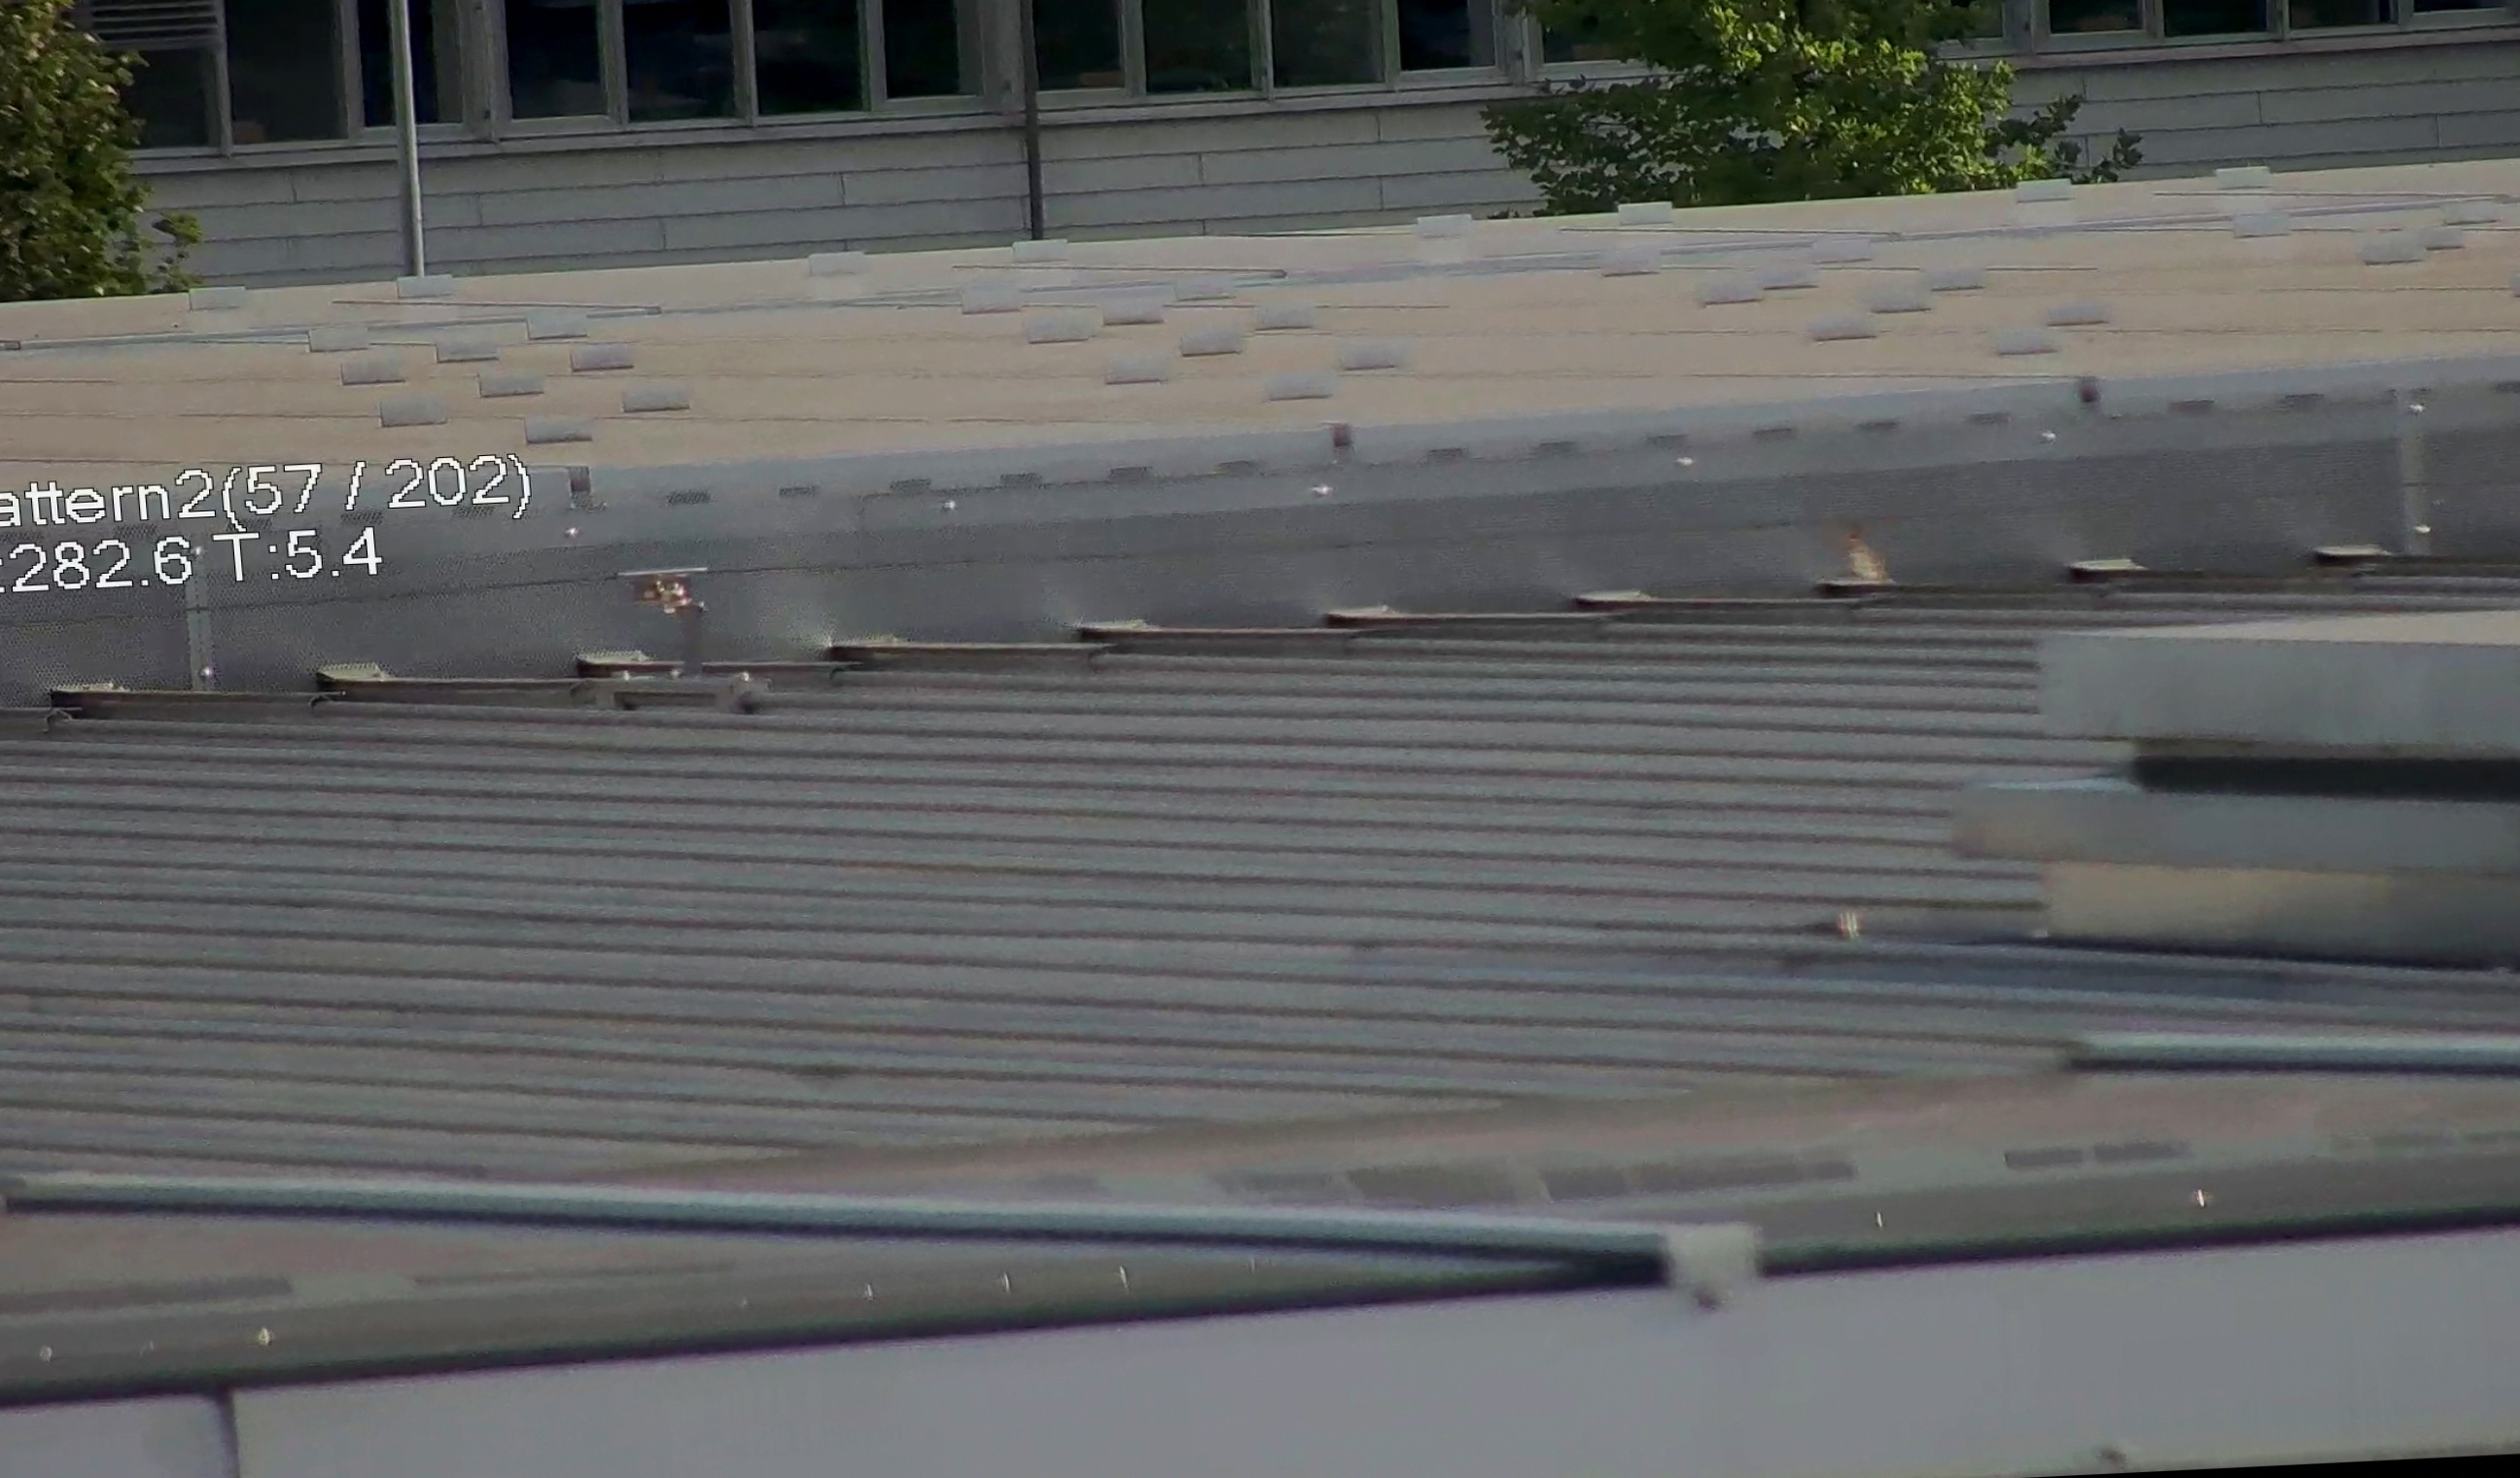Other: (1818, 503, 1908, 595)
